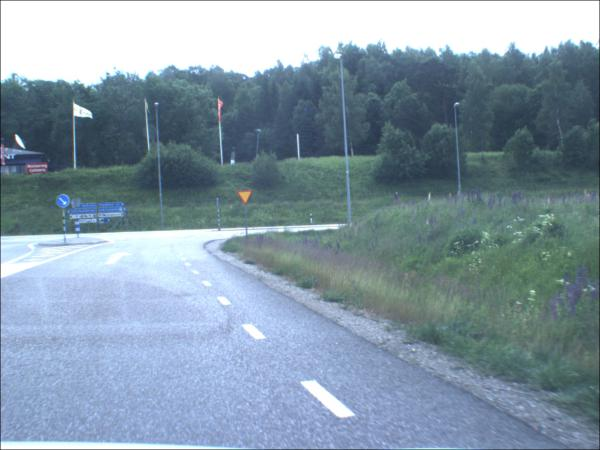GIVE_WAY: (238, 192, 254, 207)
PASS_RIGHT_SIDE: (57, 196, 71, 211)
